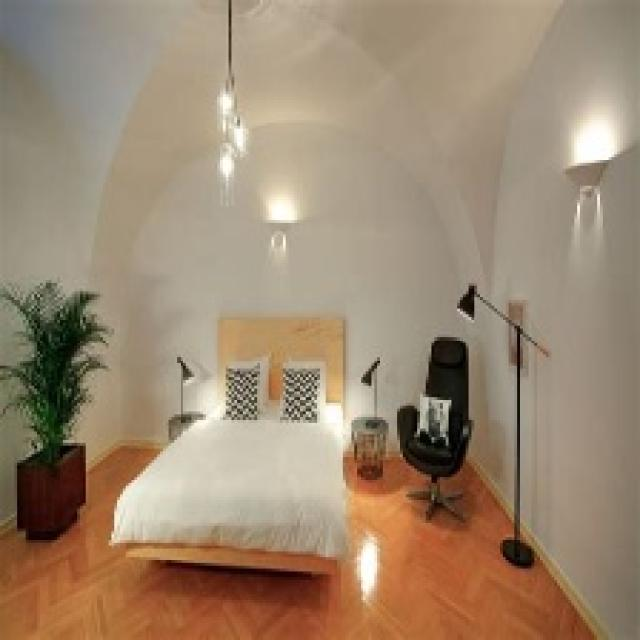Bed: (109, 314, 348, 577)
